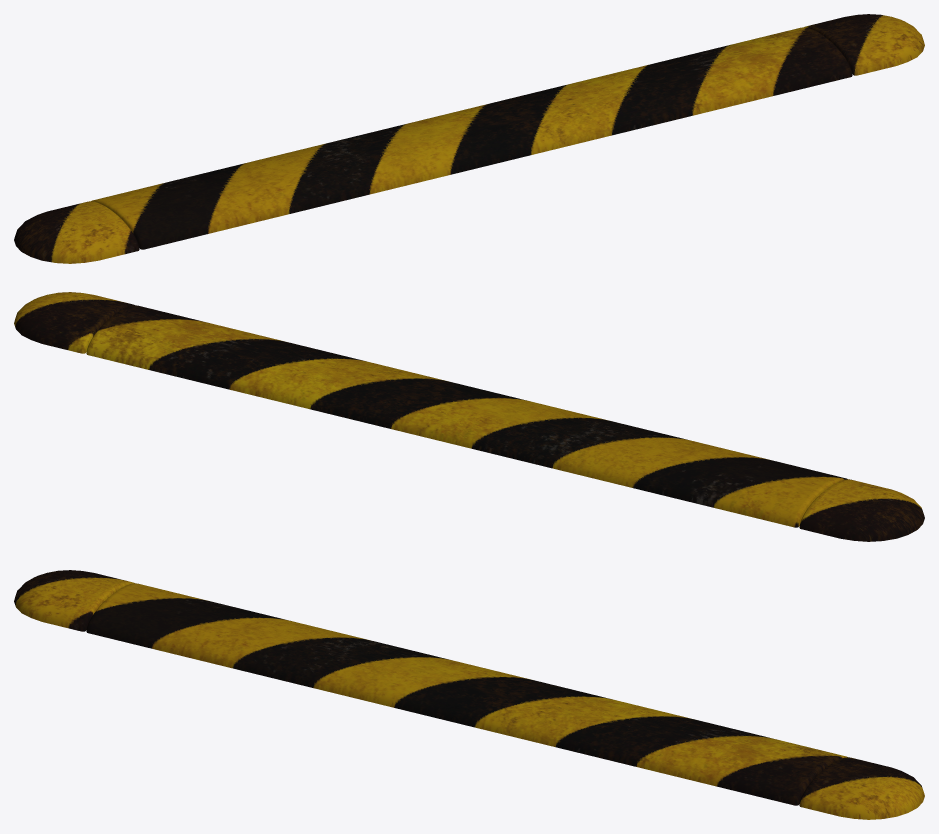
Rendered from Speed breaker 1.fbx.
3 views of the same model, one above another, from view 1: azimuth 30°, elevation 25°; view 2: azimuth 150°, elevation 25°; view 3: azimuth 330°, elevation 25° (orthographic).
Parts seen in each view (by area): view 1: Speed breaker 1; view 2: Speed breaker 1; view 3: Speed breaker 1.
Boxes of the visible parts, left/top/right/bottom form: Speed breaker 1: left=14, top=14, right=924, bottom=263; Speed breaker 1: left=14, top=292, right=924, bottom=541; Speed breaker 1: left=14, top=570, right=924, bottom=819.
Size of the model in its own units: 600 by 13.04 by 65.44.
